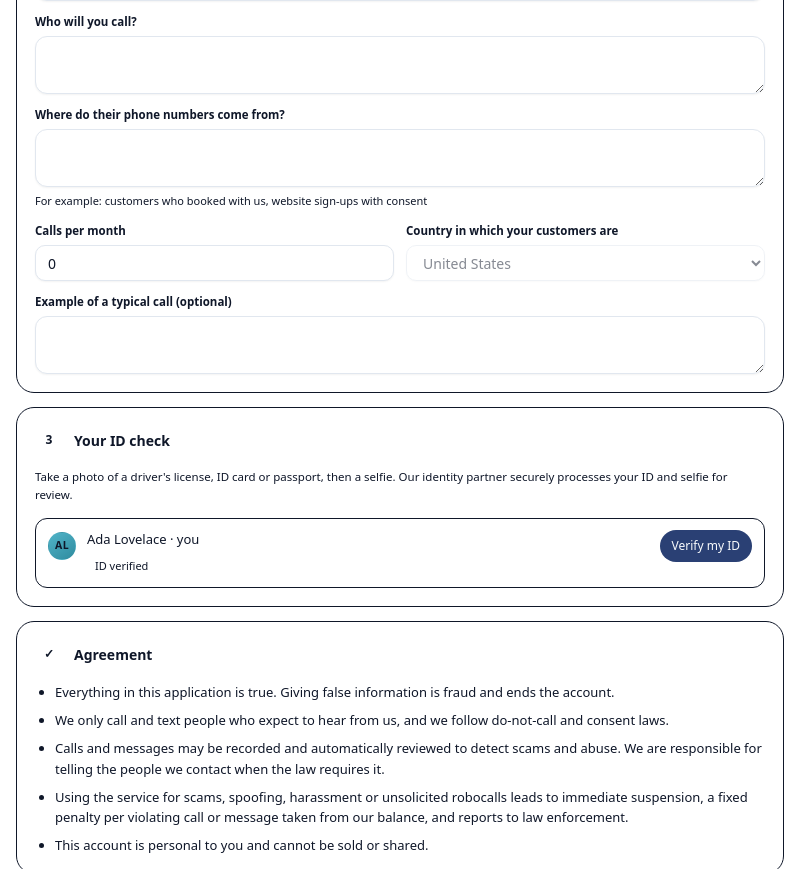
IndividualVerificationPage › shows the reverify button for a stale verified self and attempts the verify endpoint
This screenshot has width=801, height=869.
(page scrolled)
What coordinates should you click on to do the following:
click the button "Verify my ID"
I would click on:
 (706, 546)
Its box is [660,530,752,562].
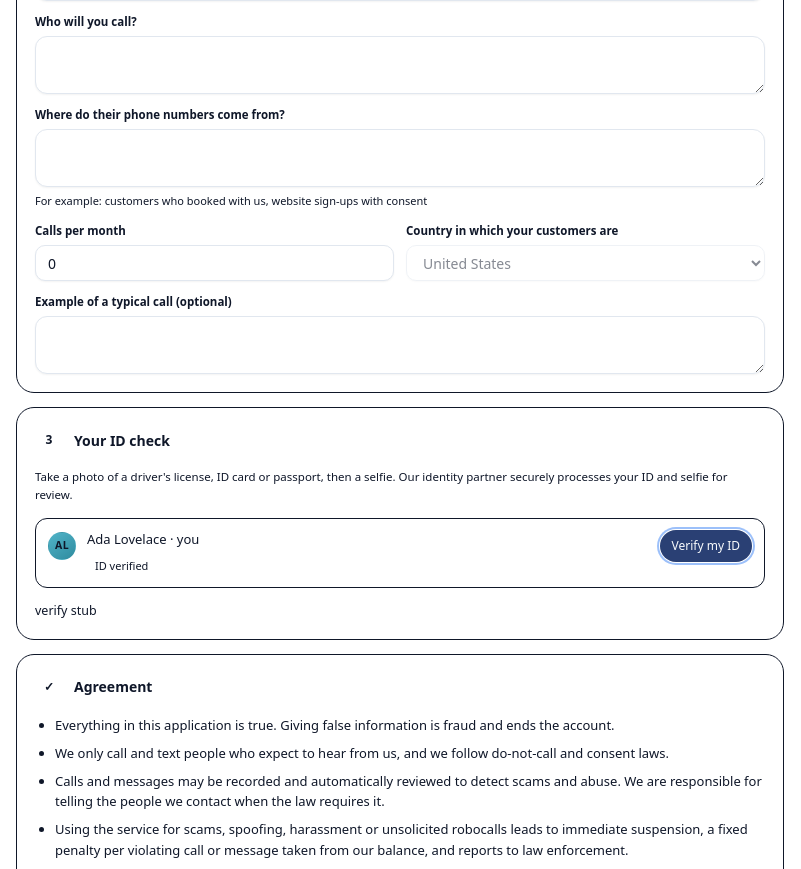
expect the message "verify stub" is shown: met, box [35,602,97,619]
